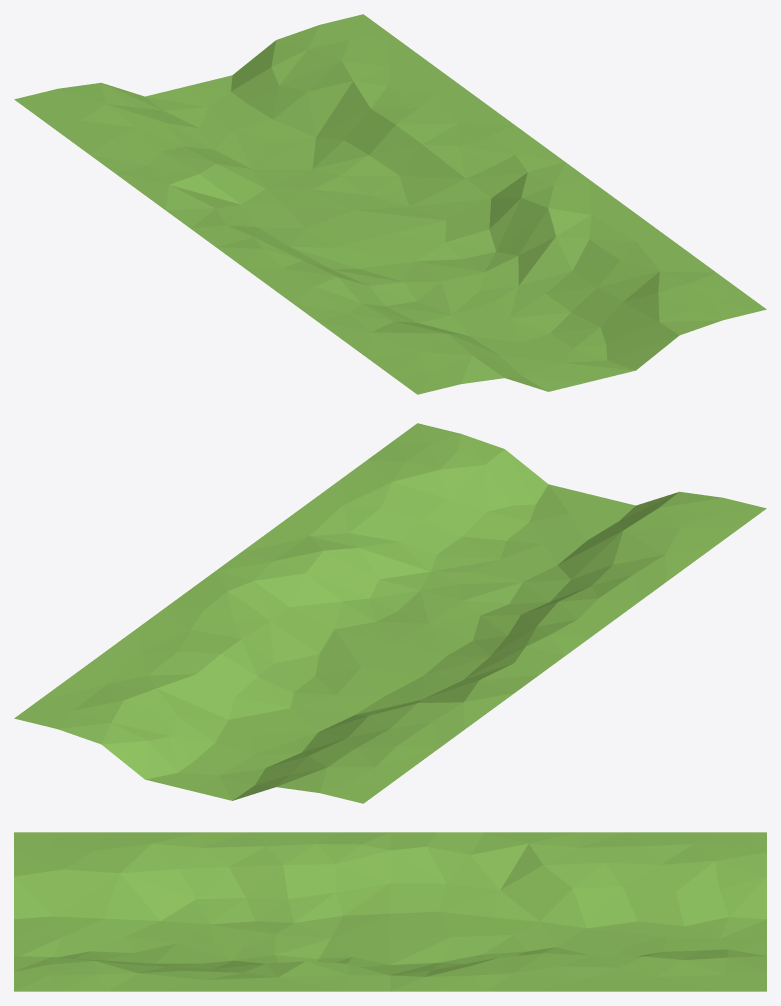
The model's file is MT_River_S_a_05_LOD.fbx.
3 renders of one model, top to bottom at view 1: azimuth 30°, elevation 25°; view 2: azimuth 150°, elevation 25°; view 3: azimuth 270°, elevation 25°, orthographic. The views are drawn at different scales.
Visible parts, largest first — view 1: MT_River_S_a_05_LOD0; view 2: MT_River_S_a_05_LOD0; view 3: MT_River_S_a_05_LOD0.
Boxes of the visible parts, x1,y1,x2,y2 form: MT_River_S_a_05_LOD0: [14, 14, 766, 394]; MT_River_S_a_05_LOD0: [14, 423, 766, 803]; MT_River_S_a_05_LOD0: [14, 832, 766, 991].
Size of what is drawn, in the model's own units: 2500 by 251 by 5000.
